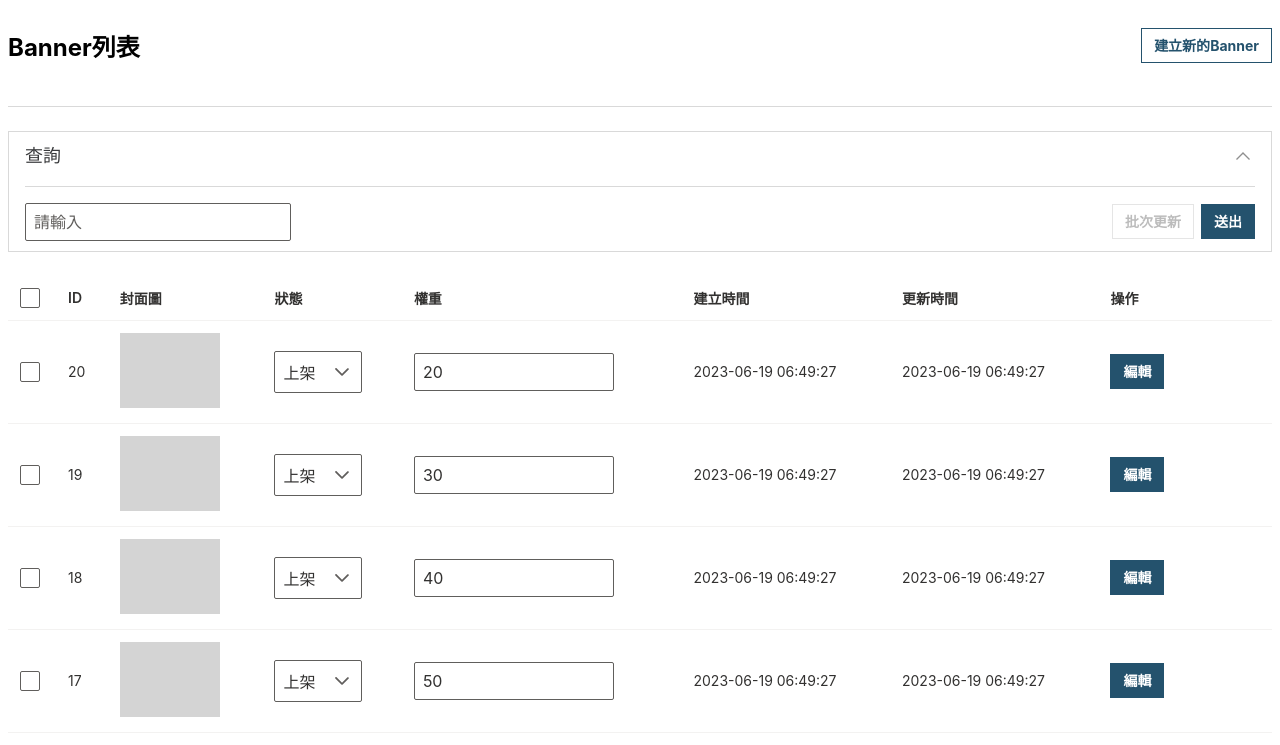
Scenario: ContentListPage › Banner › should have enabled update button after changing select value
Click the 1st element showing "上架": [318, 372] box [274, 351, 362, 393]
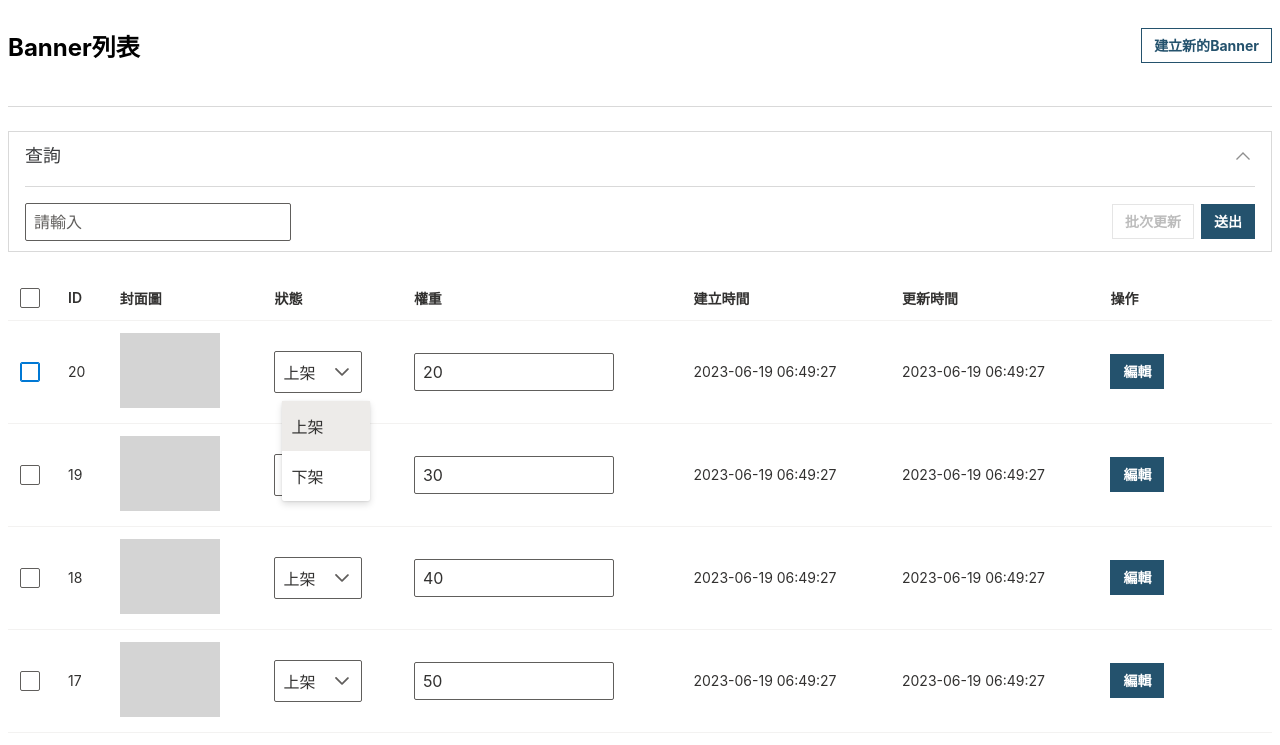
Expected: the option labelled "下架" is shown
Click the option labelled "下架": [307, 477] box [291, 467, 323, 487]
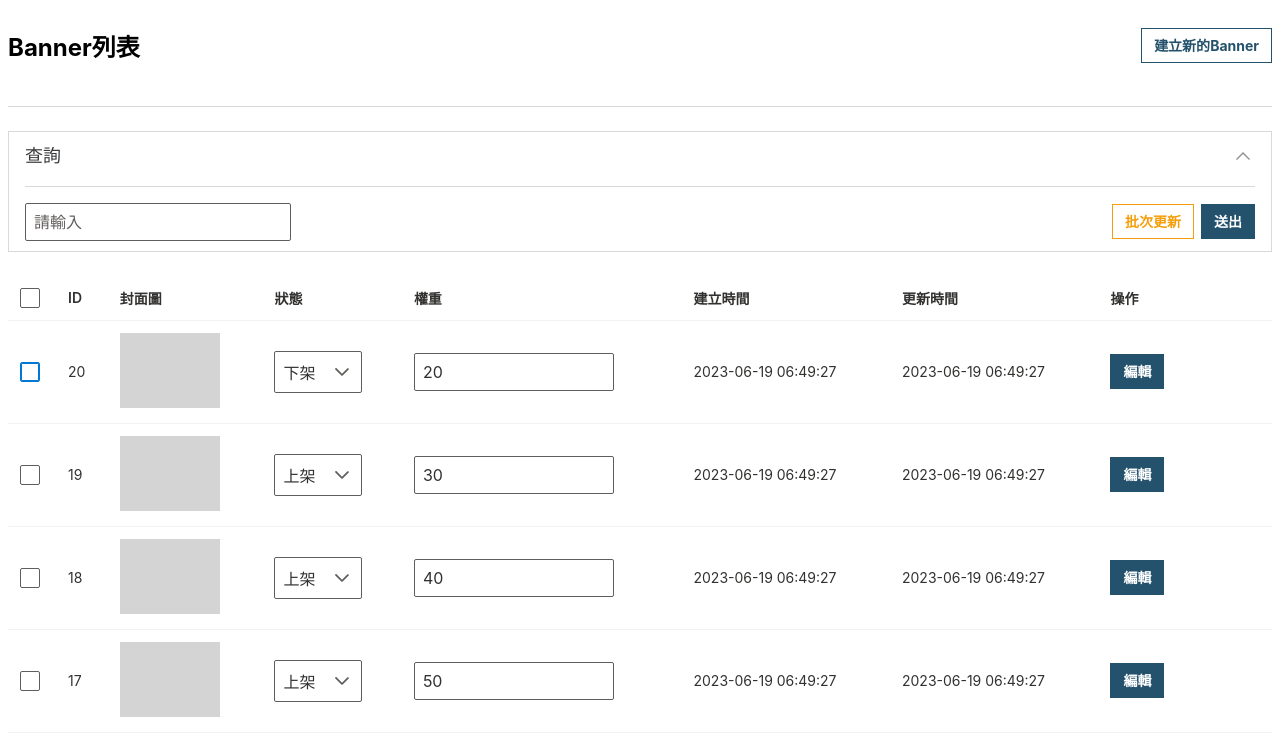
Expected: the button "批次更新" is enabled, [1112, 204, 1194, 239]
